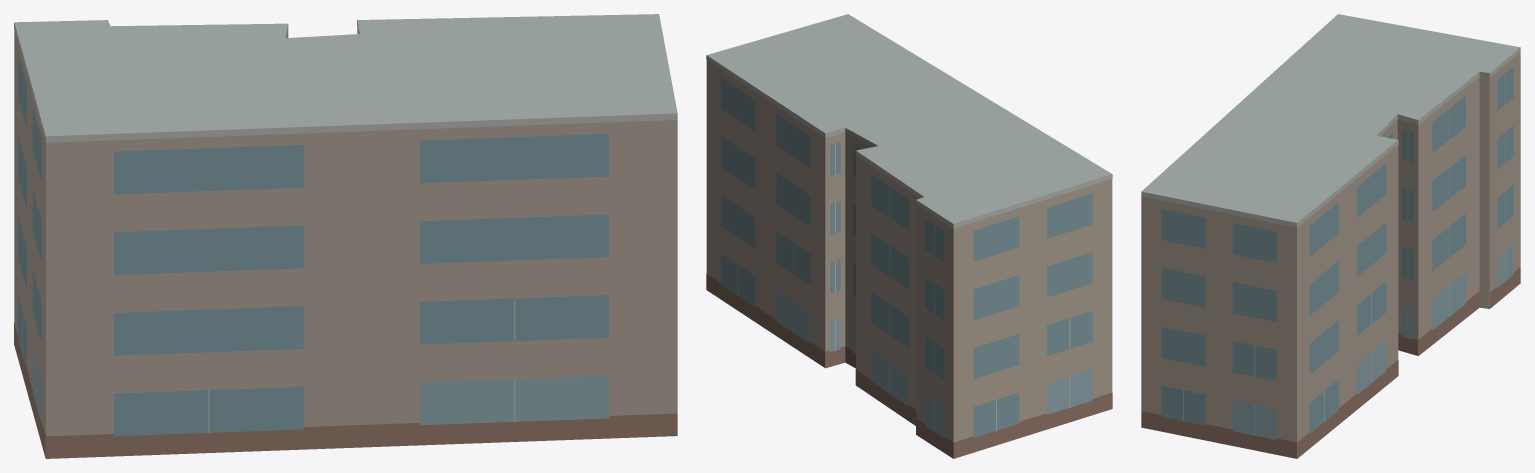
File: survey-upis-32645181.glb
3 views of the same model, side by side, from view 1: azimuth 30°, elevation 25°; view 2: azimuth 150°, elevation 25°; view 3: azimuth 270°, elevation 25° (orthographic). The views are drawn at different scales.
Parts seen in each view (by area): view 1: survey-upis-32645181.tmp; view 2: survey-upis-32645181.tmp; view 3: survey-upis-32645181.tmp.
Part boxes in pixels (x1,y1,x2,y2): survey-upis-32645181.tmp: (14,14,677,458); survey-upis-32645181.tmp: (706,14,1112,458); survey-upis-32645181.tmp: (1141,14,1520,458).
Size of the model in its own units: 23.18 by 12.2 by 17.79.
